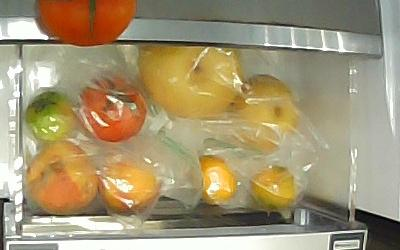peach_vinyl: (25, 138, 98, 213), (95, 161, 160, 214)
pear_vinyl: (136, 44, 241, 119), (226, 72, 298, 155)
tangerine_vinyl: (246, 164, 300, 207), (197, 154, 237, 205)
tomato_vinyl: (76, 73, 147, 141), (23, 89, 78, 141)
